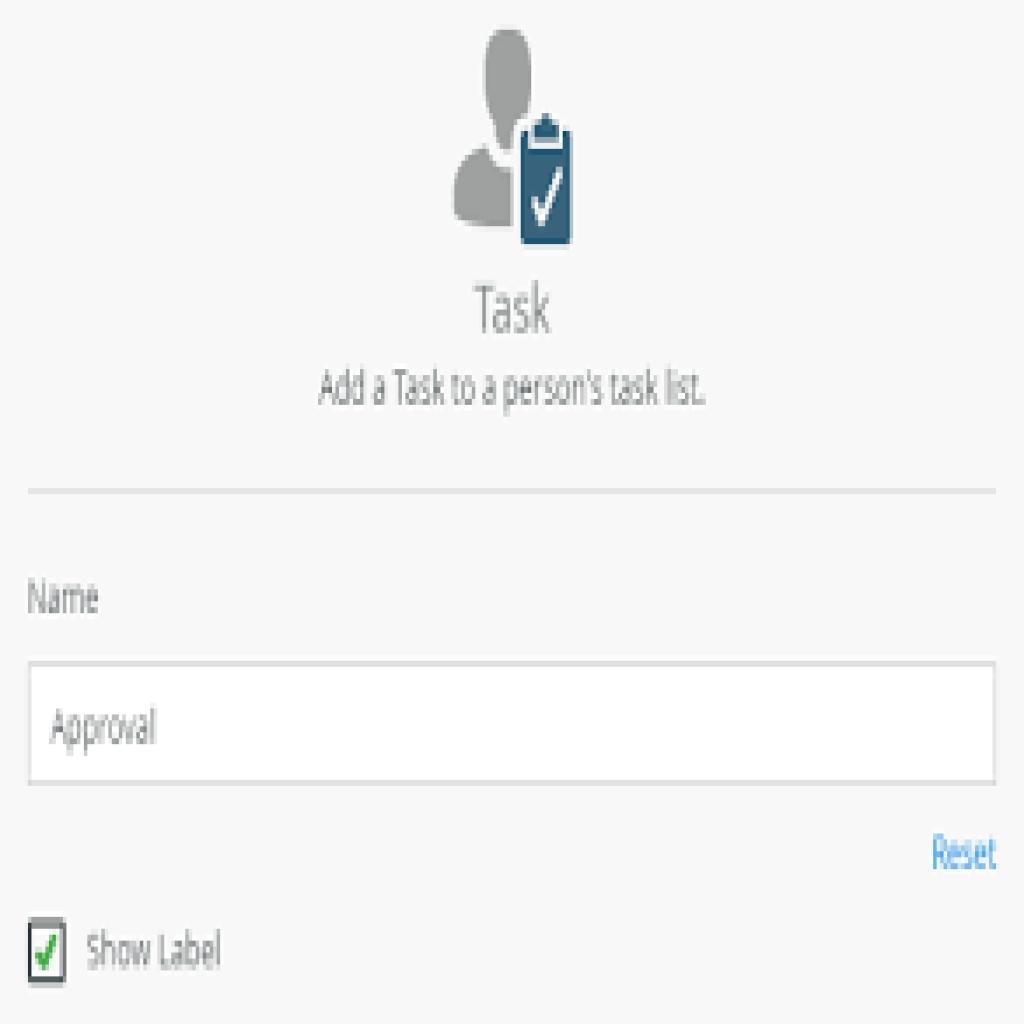checkbox: (28, 920, 67, 983)
input: (29, 663, 991, 784)
label: (17, 573, 102, 627), (929, 829, 1012, 878)
